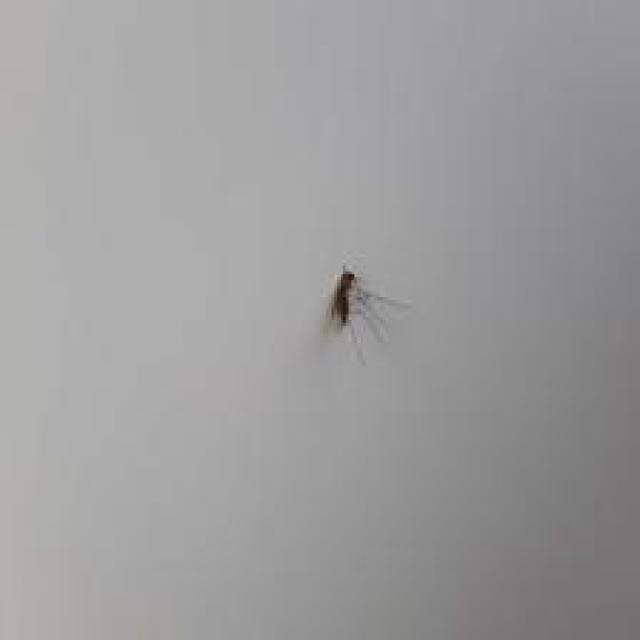Culex: (323, 263, 411, 366)
